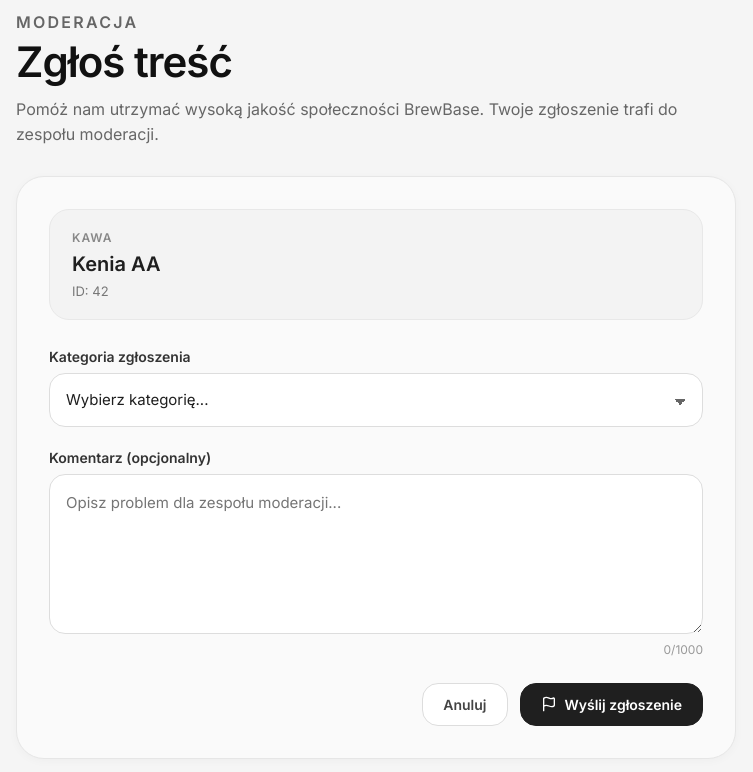
Test: ReportPage › shows error when submission fails
Expected: the heading "Zgłoś treść" is shown, [16,36,232,87]
Select "Inny problem" in the dropdown labelled "Kategoria zgłoszenia". click: [376, 400]
box: [49,373,703,427]
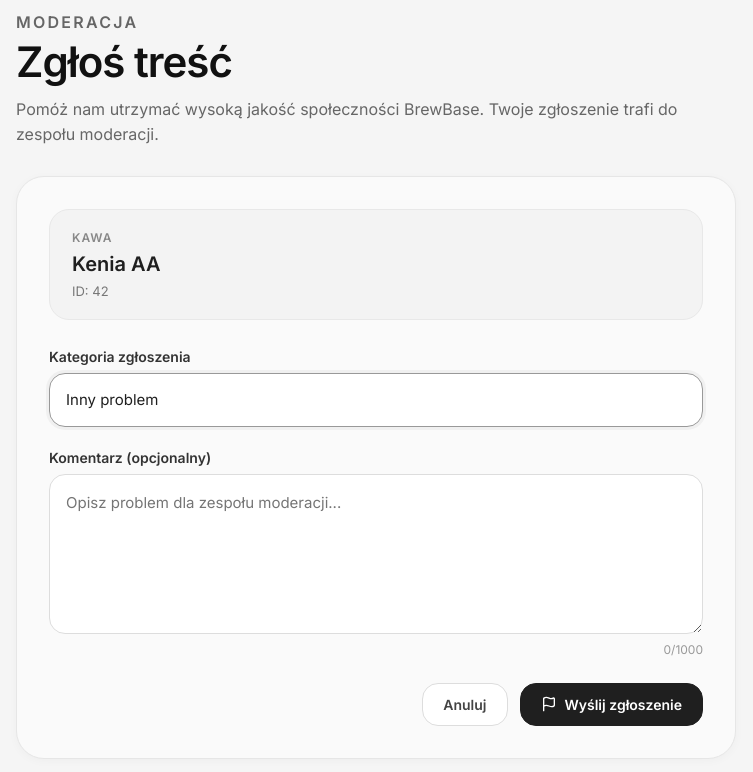
Click the button "Wyślij zgłoszenie". click: [611, 704]
box: [520,683,703,726]
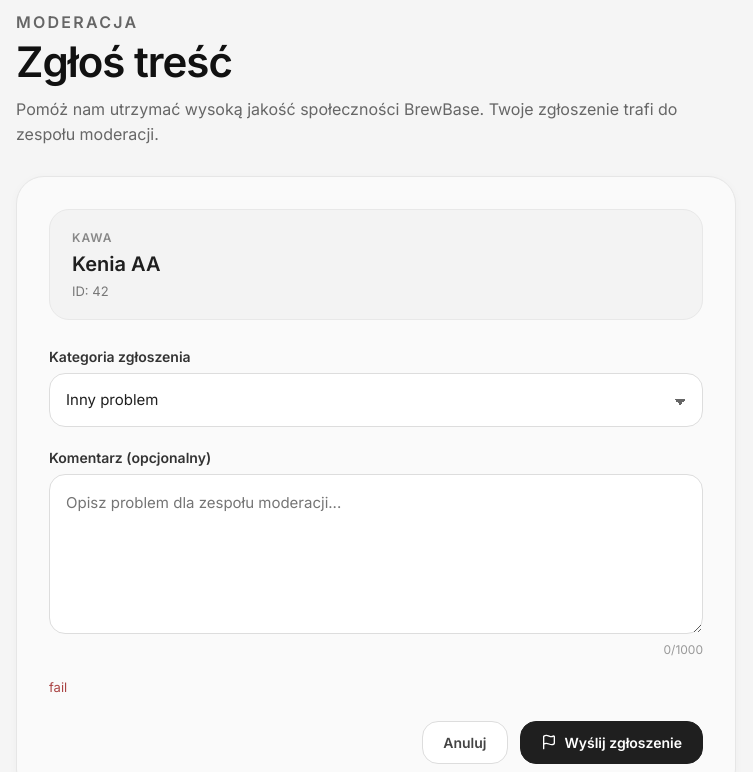
Result: the text "fail" is shown at [49,679,67,695]
